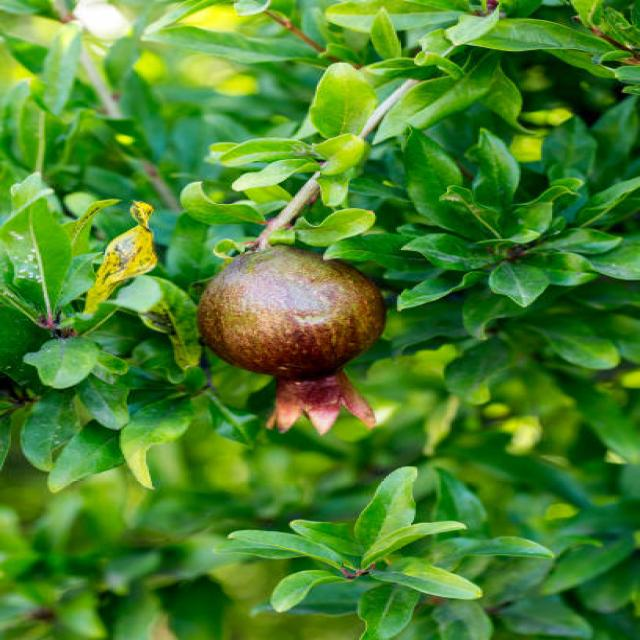Unripe: (200, 242, 400, 437)
